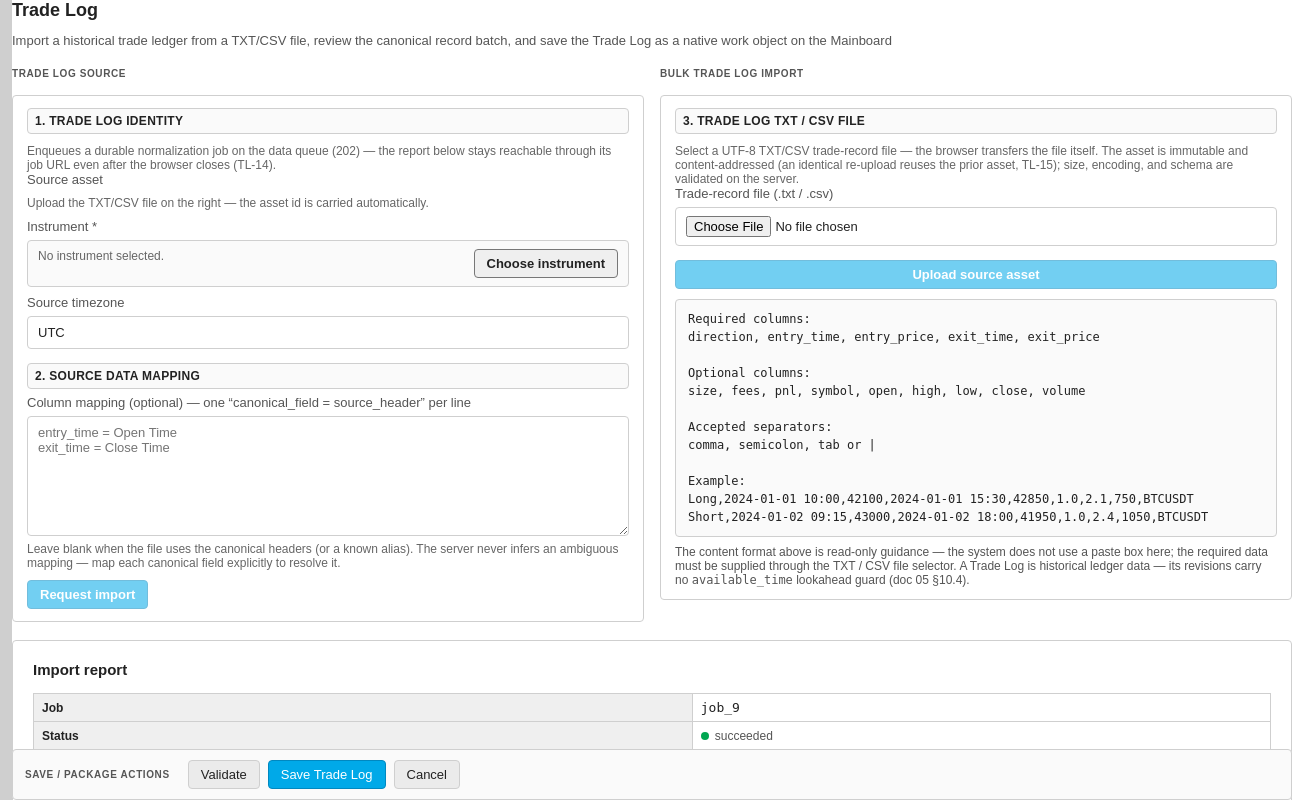
Test: TradeLog › blocks Save client-side with field-level errors — nothing is sent
What coordinates should you click on to do the following:
click the button "Save Trade Log"
I would click on:
 (327, 774)
Its box is [268,760,386,789].
(page scrolled)
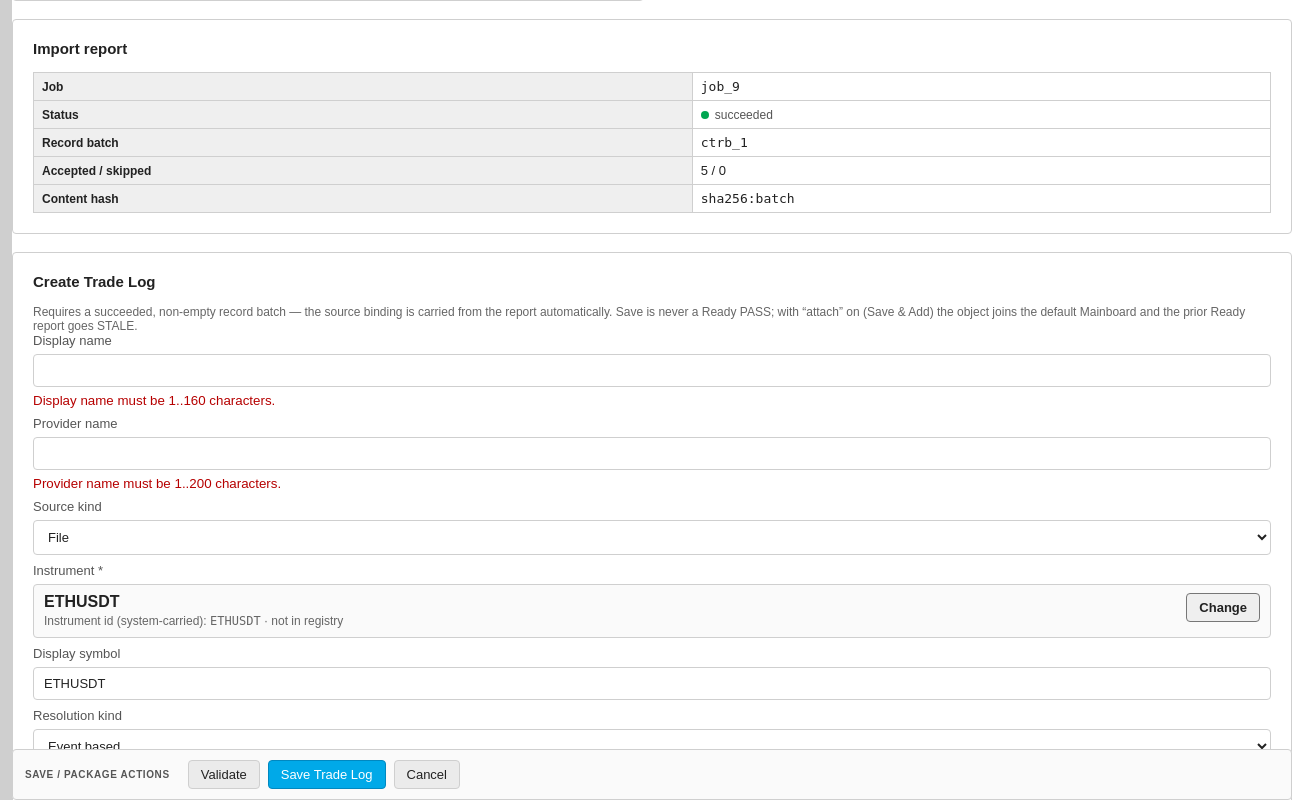
Expected: the text "Display name must be 1..160 characters." is shown, [33,393,275,408]
